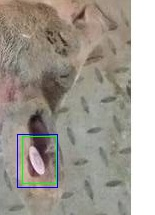text: (22, 136, 56, 183)
